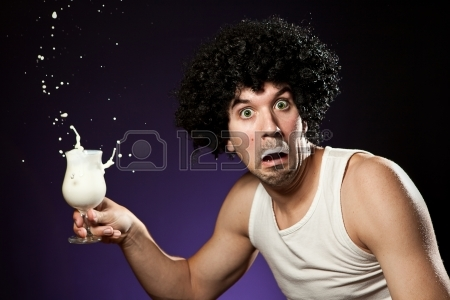glass of milk: (56, 135, 118, 251)
